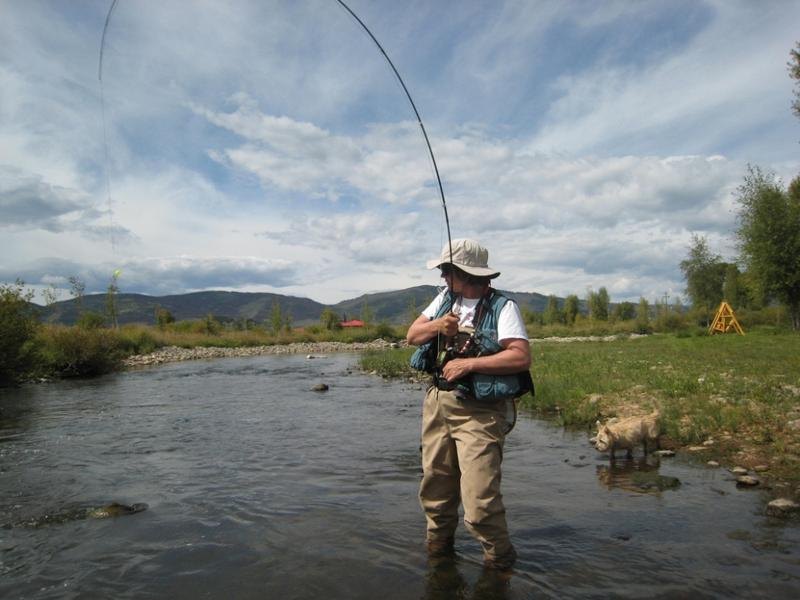person: (405, 238, 534, 565)
